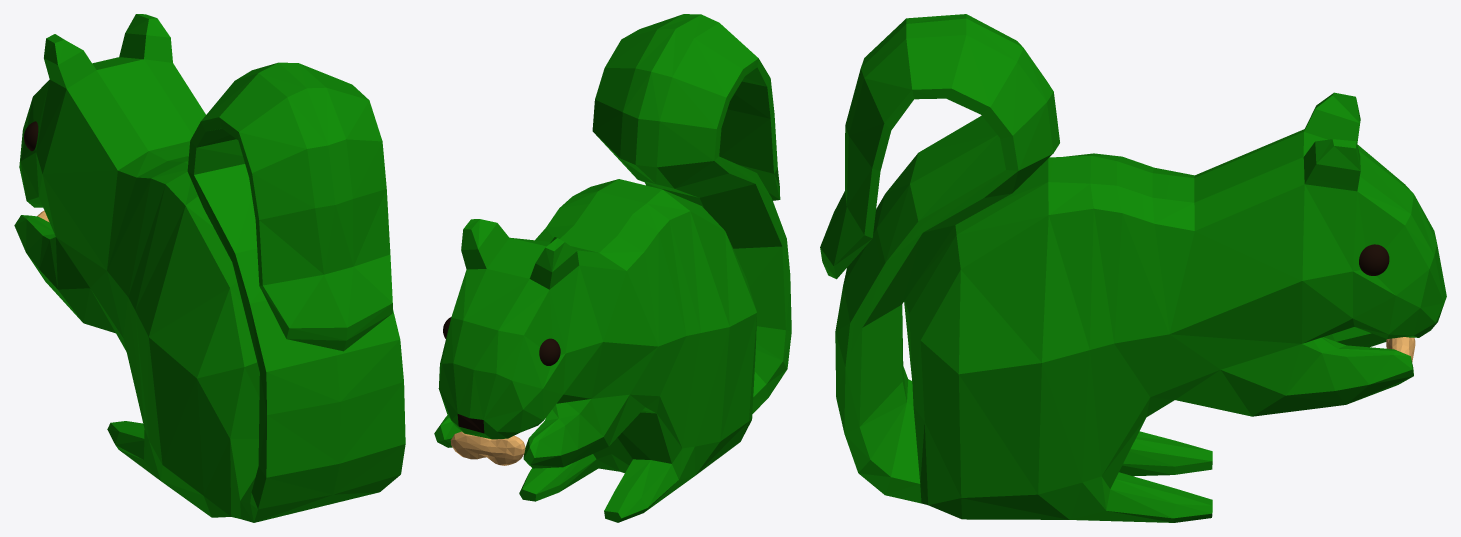
Rendered from squirrel_3.fbx.
3 views of the same model, side by side, from view 1: azimuth 30°, elevation 25°; view 2: azimuth 150°, elevation 25°; view 3: azimuth 270°, elevation 25° (orthographic). The views are drawn at different scales.
Visible parts, largest first — view 1: squarrel; view 2: squarrel; view 3: squarrel.
Boxes of the visible parts, <box> form: squarrel: <box>14,14,405,522</box>; squarrel: <box>434,14,791,522</box>; squarrel: <box>820,14,1446,522</box>.
Bounding box in the file's own units: 49.31 × 111 × 133.
